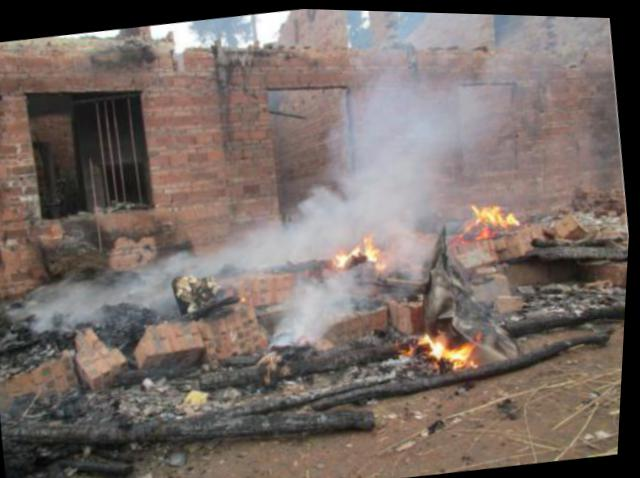fire: (435, 334, 482, 362), (481, 199, 524, 224), (365, 229, 384, 257), (337, 244, 365, 262)
